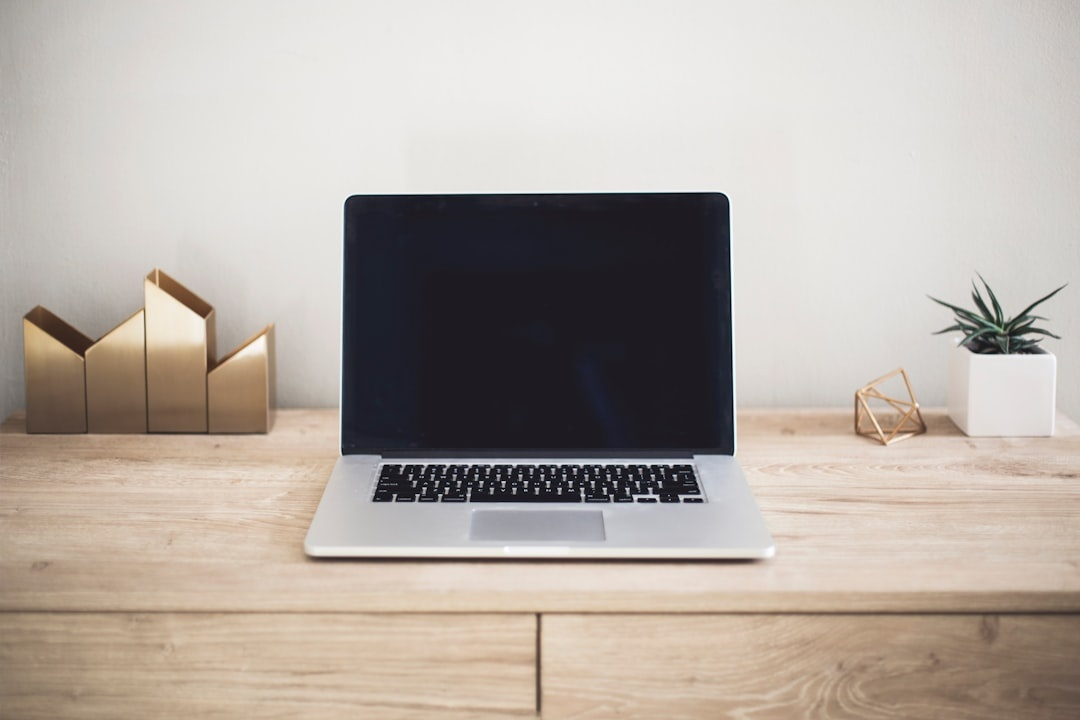laptop: (281, 170, 817, 582)
